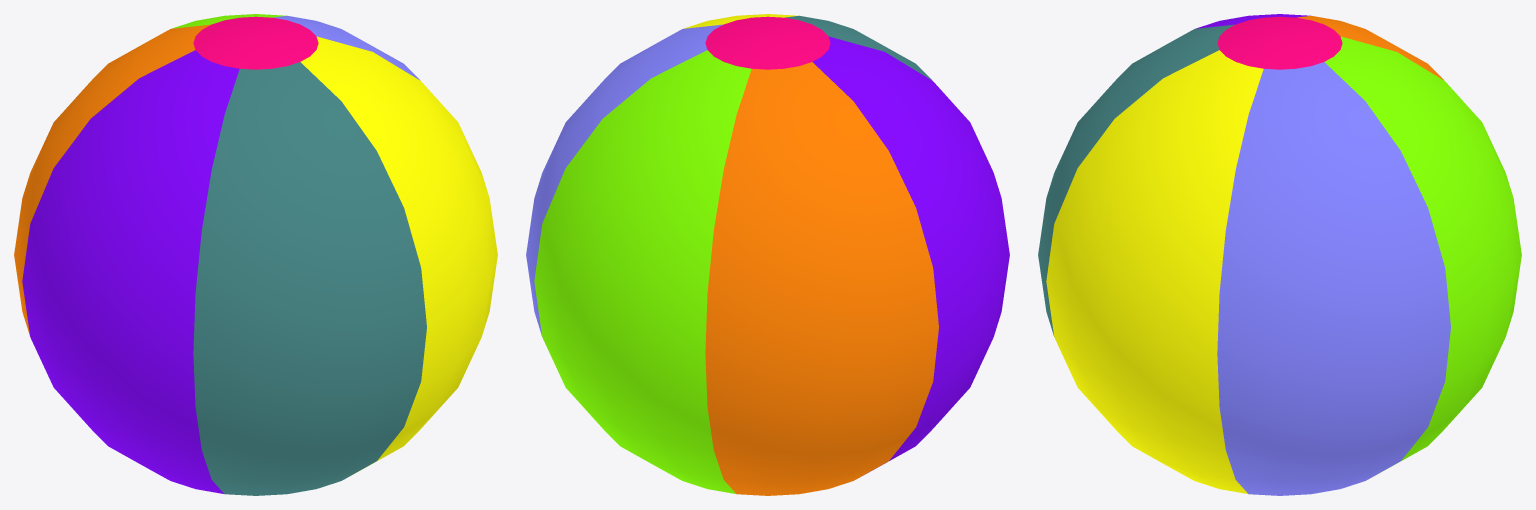
The model's file is pelota_playa.glb.
3 views of the same model, side by side, from view 1: azimuth 30°, elevation 25°; view 2: azimuth 150°, elevation 25°; view 3: azimuth 270°, elevation 25° (orthographic).
Parts seen in each view (by area): view 1: Mesh; view 2: Mesh; view 3: Mesh.
Part boxes in pixels (left/top/right/bottom): Mesh: left=14, top=14, right=497, bottom=495; Mesh: left=526, top=14, right=1009, bottom=495; Mesh: left=1038, top=14, right=1521, bottom=495.
Size of the model in its own units: 1 by 1 by 1.
